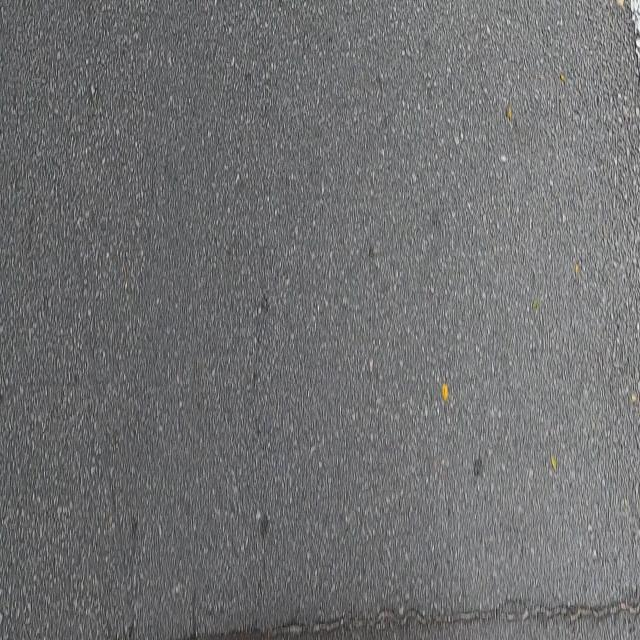Retak-Melintang: (197, 588, 640, 640)
